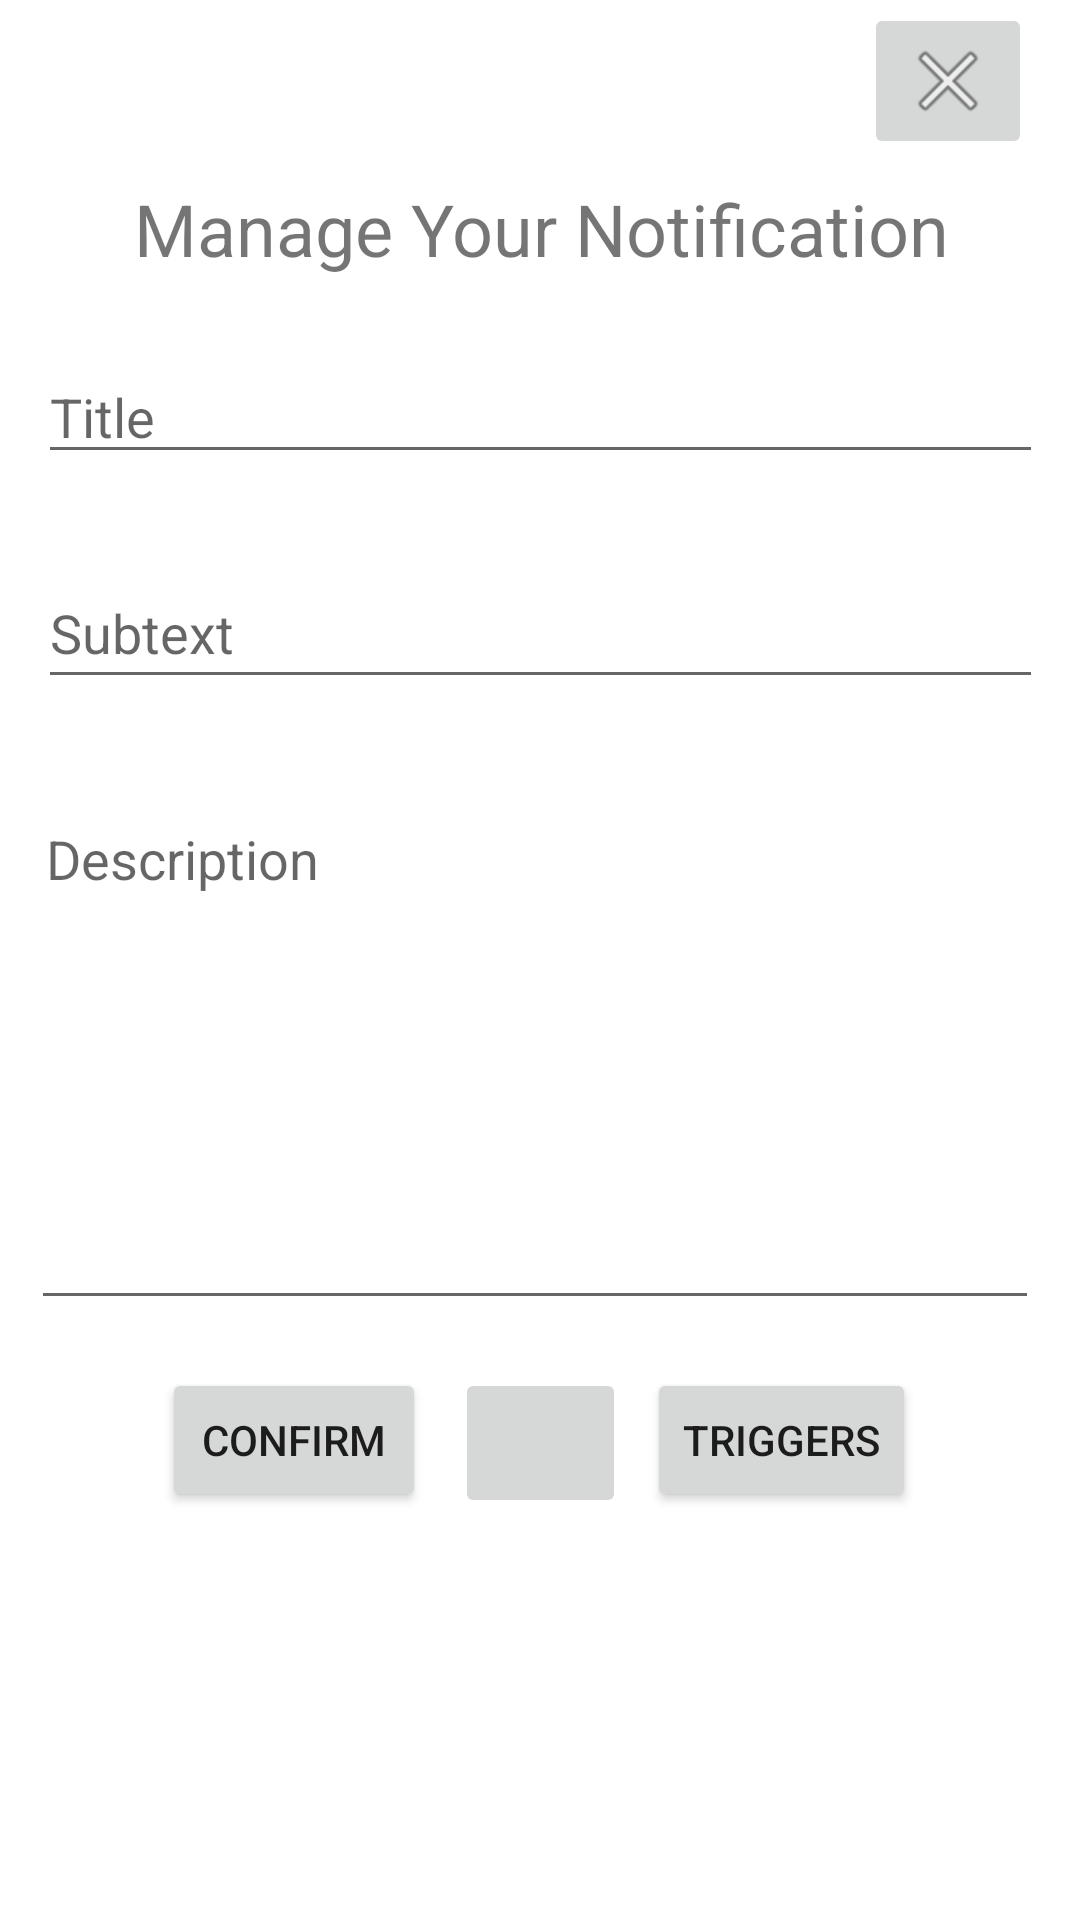

Icon click points for this 1080w x 1920h phone screenshot, format [x,y]:
close clear cancel: [948,81]
